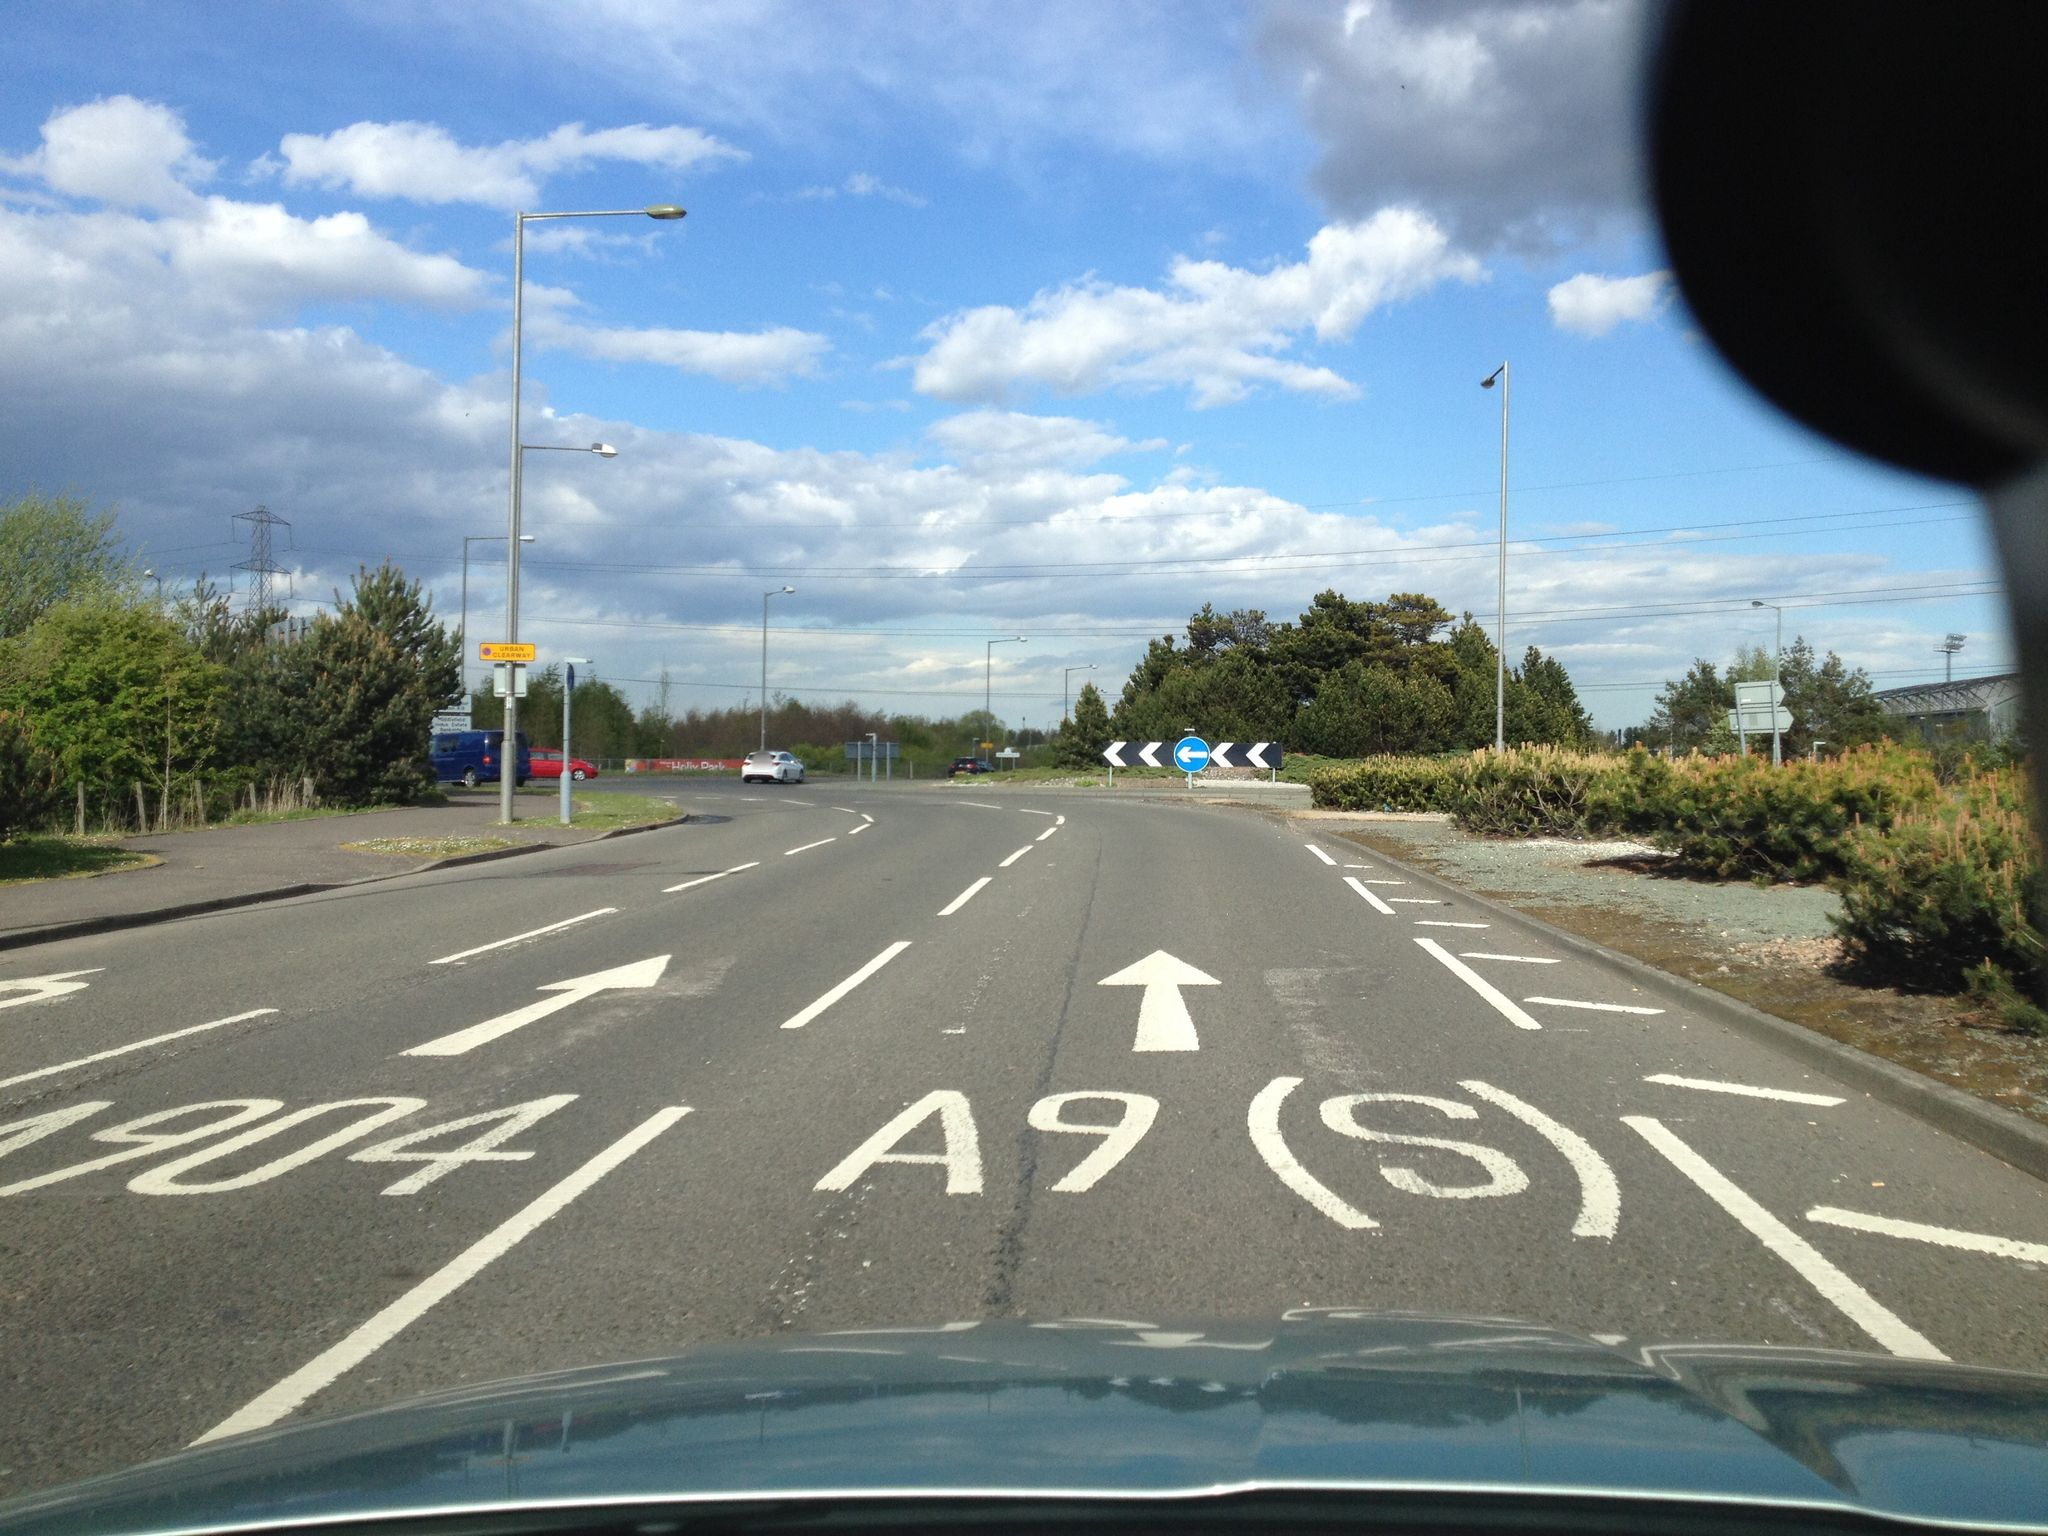car: (424, 728, 534, 787), (527, 749, 598, 779), (742, 750, 805, 783), (947, 757, 993, 778)
